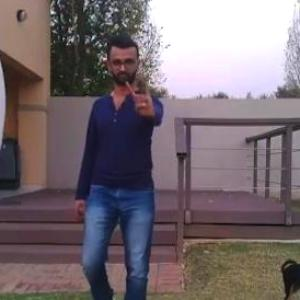takeoff-hand: (120, 75, 161, 125)
